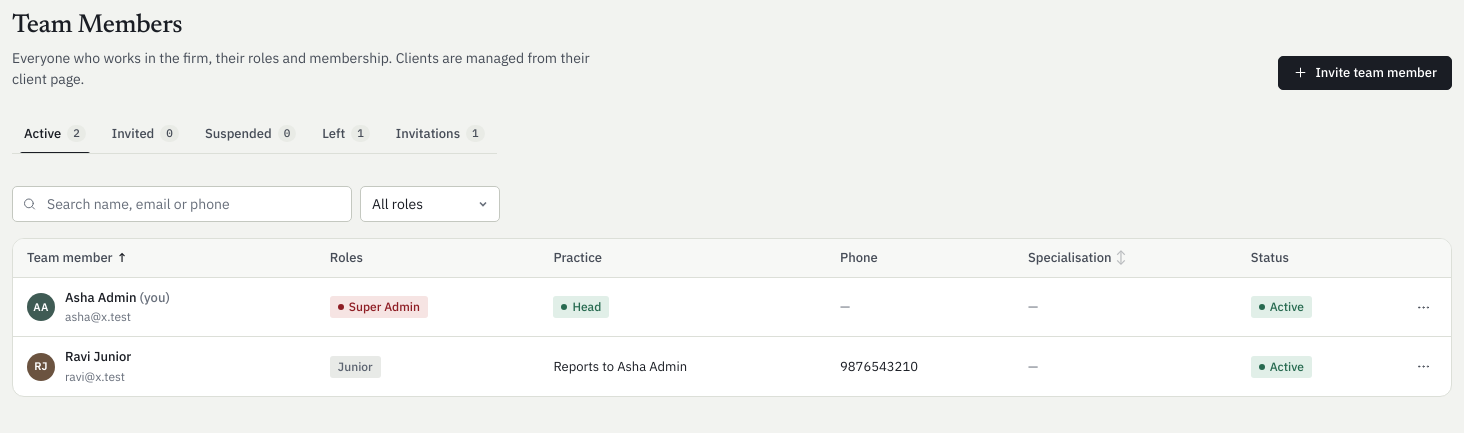
Scenario: Team Members page (merged with invitations) › offers no suspend or remove on your own row
The image size is (1464, 433).
Click the button named "Actions for Asha Admin" at (1423, 307), box left=1409, top=293, right=1437, bottom=321
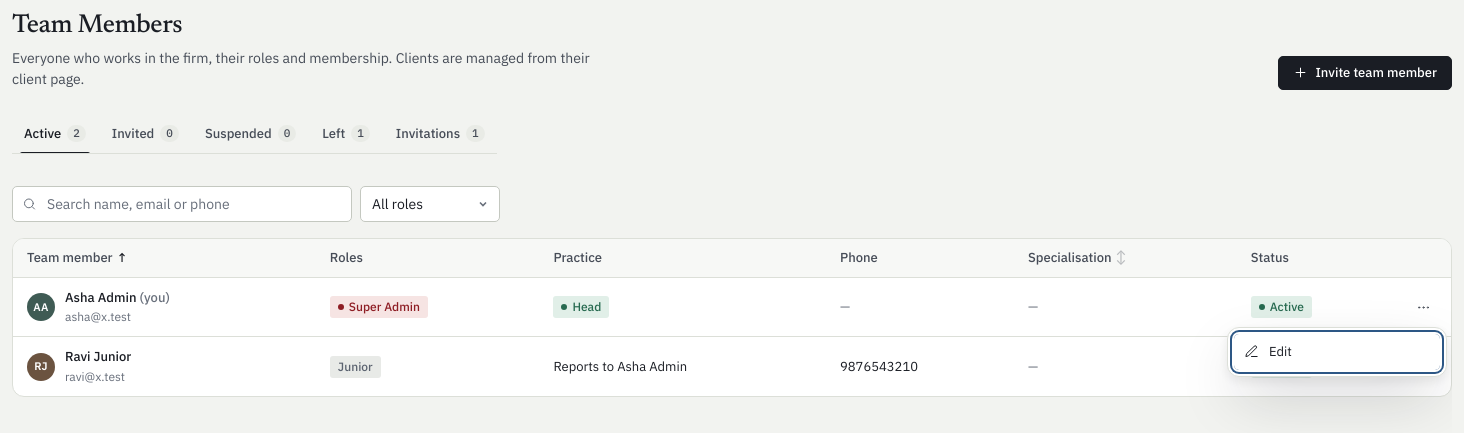
expect the menu item "Edit" is shown: met, box left=1234, top=334, right=1440, bottom=370
